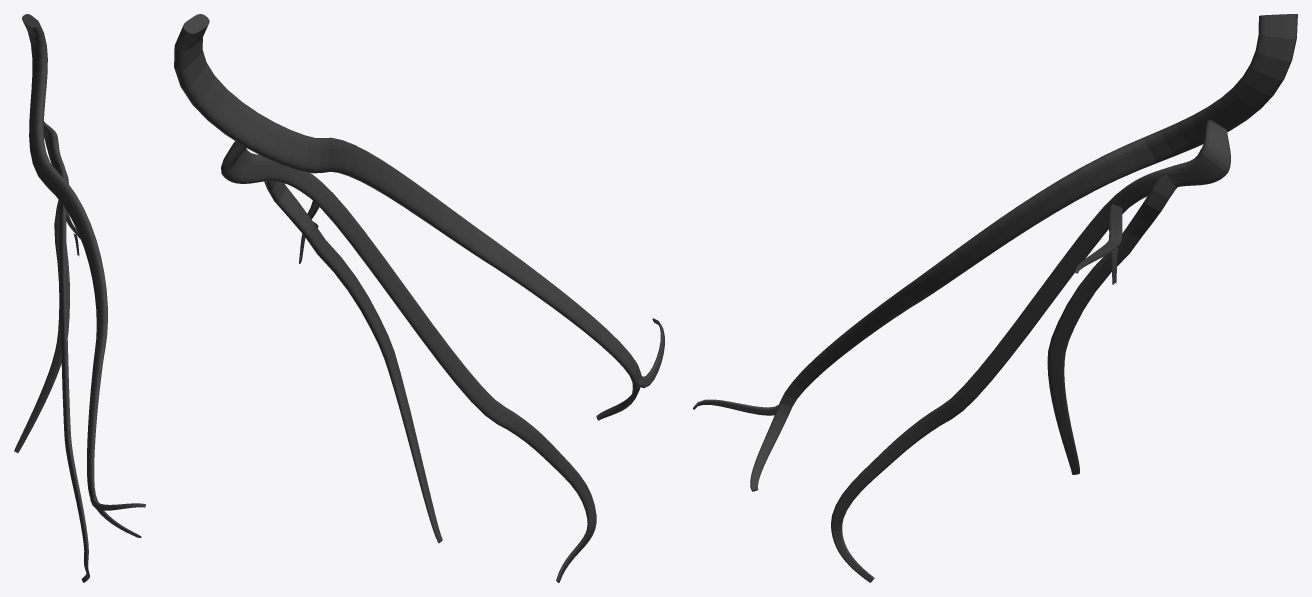
Rendered from R_Trigeminus_Ophthalmic.glb.
3 renders of one model, left to right at view 1: azimuth 30°, elevation 25°; view 2: azimuth 150°, elevation 25°; view 3: azimuth 270°, elevation 25°, orthographic. The views are drawn at different scales.
Parts seen in each view (by area): view 1: R_Trigeminus_Ophthalmic; view 2: R_Trigeminus_Ophthalmic; view 3: R_Trigeminus_Ophthalmic.
Part boxes in pixels (left/top/right/bottom): R_Trigeminus_Ophthalmic: left=14, top=14, right=145, bottom=582; R_Trigeminus_Ophthalmic: left=174, top=14, right=664, bottom=582; R_Trigeminus_Ophthalmic: left=693, top=14, right=1297, bottom=582.
Size of the model in its own units: 0.1412 by 0.4827 by 0.4179.
Materials: 1 (1 with a texture image).
